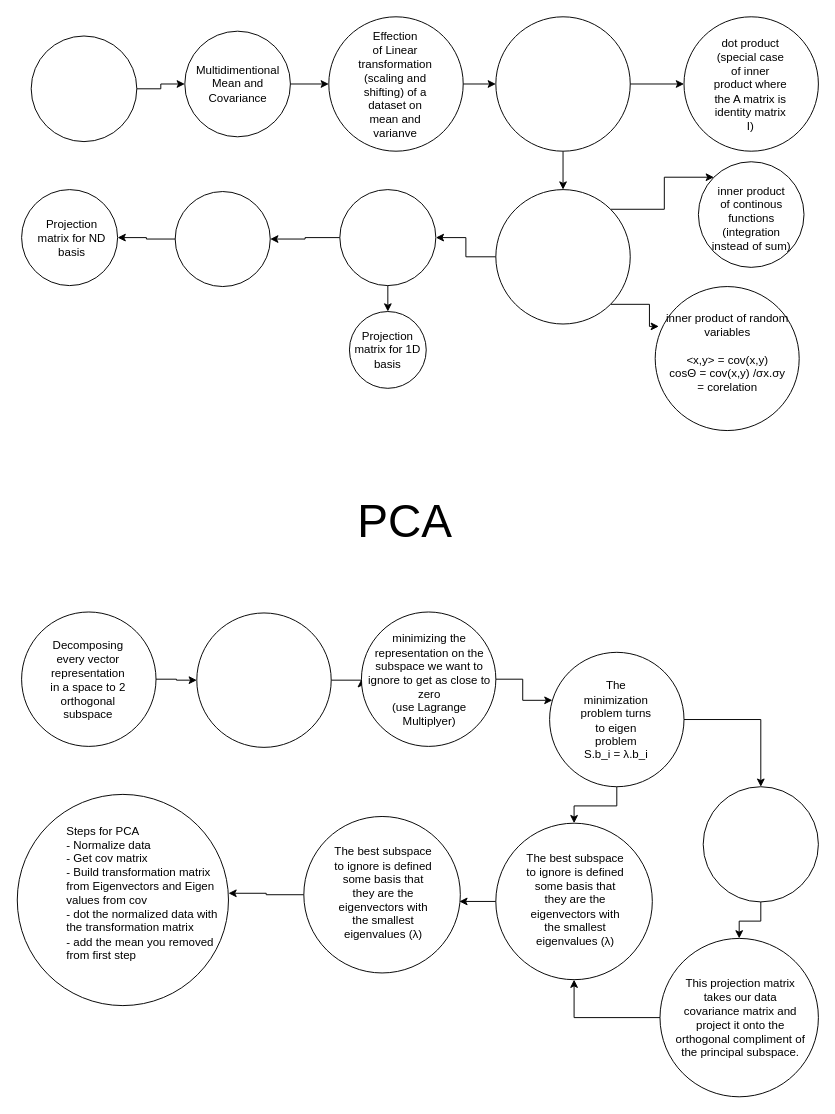
Image size: 835x1114. Some labels were removed from this diagram. Here are the shapes that lost their labels. From the top down, the centre of each, then its label:
At (x=83, y=88): "Mean and Variance".
At (x=562, y=83): "Inner product and it's 3 properties (bilinear, Positive definite, symmetry)".
At (x=222, y=239): "Projection onto ND subspace".
At (x=387, y=237): "Projection onto 1D subspace".
At (x=562, y=256): "Inner product properties - length and distance - angels and orthogonality".
At (x=263, y=679): "defining a principal subspace and another one to ignore".
At (x=760, y=844): "The S matrix is the covariance matrix".
